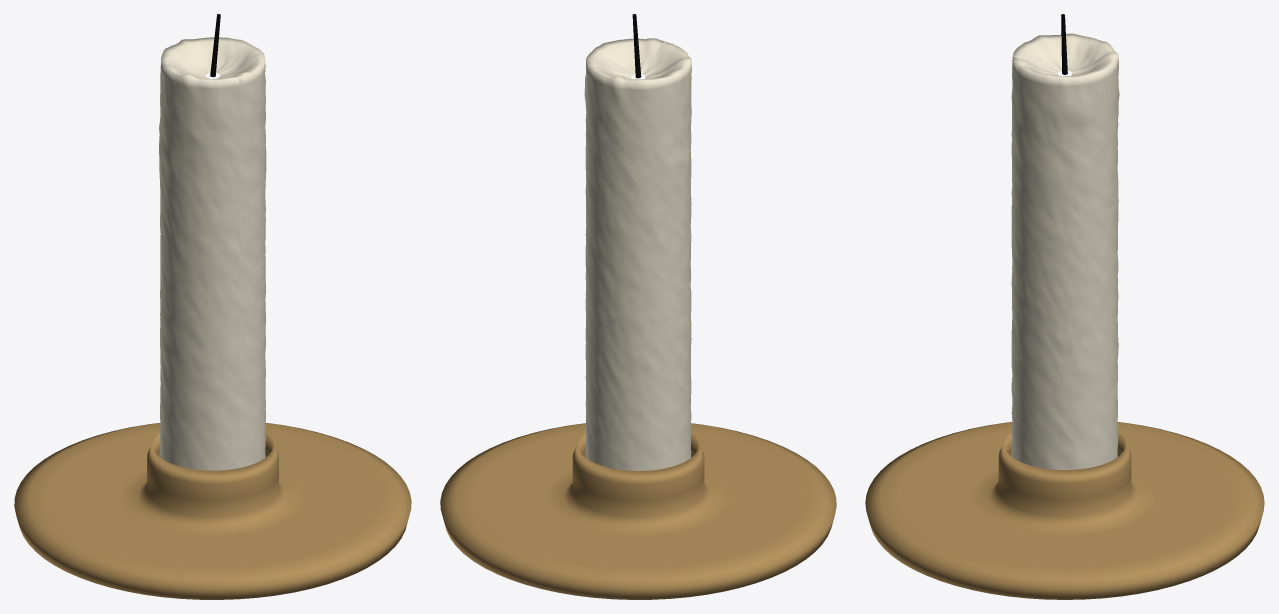
Rendered from candle_L2.glb.
3 views of the same model, side by side, from view 1: azimuth 30°, elevation 25°; view 2: azimuth 150°, elevation 25°; view 3: azimuth 270°, elevation 25° (orthographic).
Visible parts, largest first — view 1: holder, wax; view 2: holder, wax; view 3: holder, wax.
Boxes of the visible parts, left/top/right/bottom form: holder: left=14, top=423, right=411, bottom=599; wax: left=159, top=37, right=266, bottom=470; holder: left=440, top=423, right=836, bottom=599; wax: left=584, top=38, right=691, bottom=470; holder: left=865, top=422, right=1264, bottom=599; wax: left=1011, top=33, right=1119, bottom=469.
Size of the model in its own units: 0.0829 by 0.117 by 0.0829.
3 materials, 1 textured.
